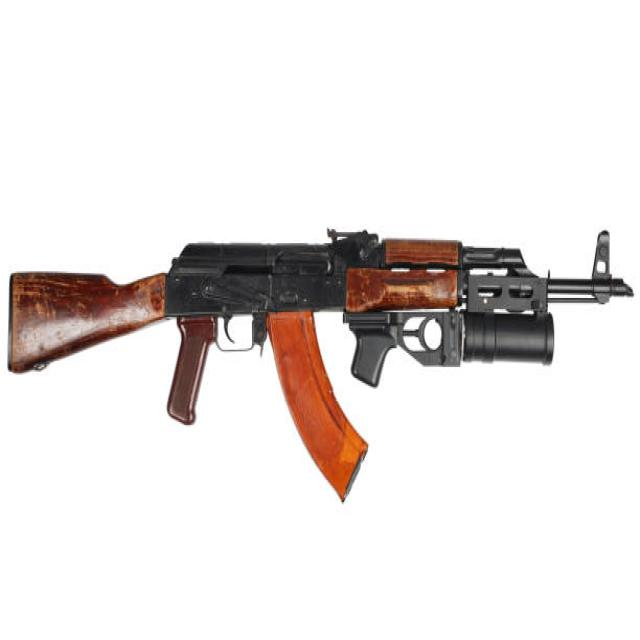rifle: (8, 217, 636, 519)
